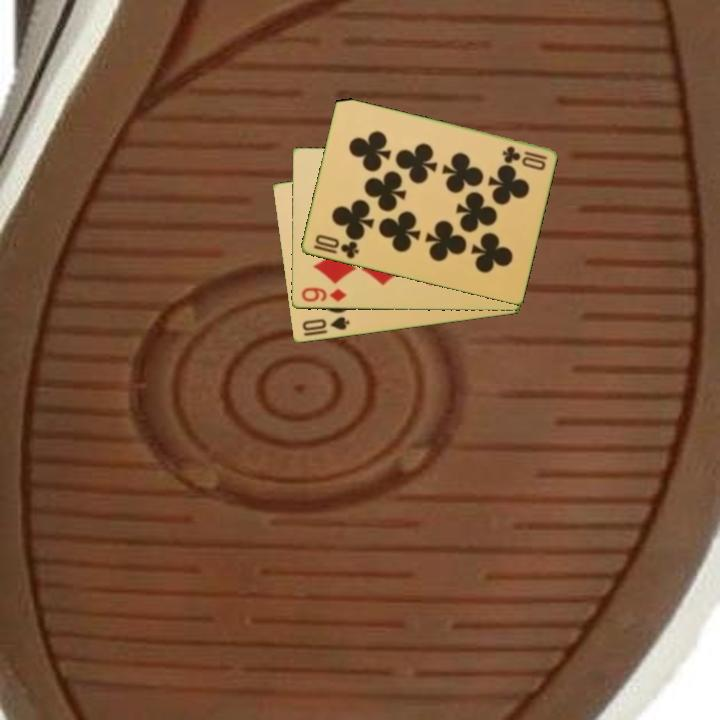10c: (310, 231, 362, 262), (498, 143, 550, 165)
10s: (299, 313, 352, 334)
9d: (298, 284, 349, 305)
